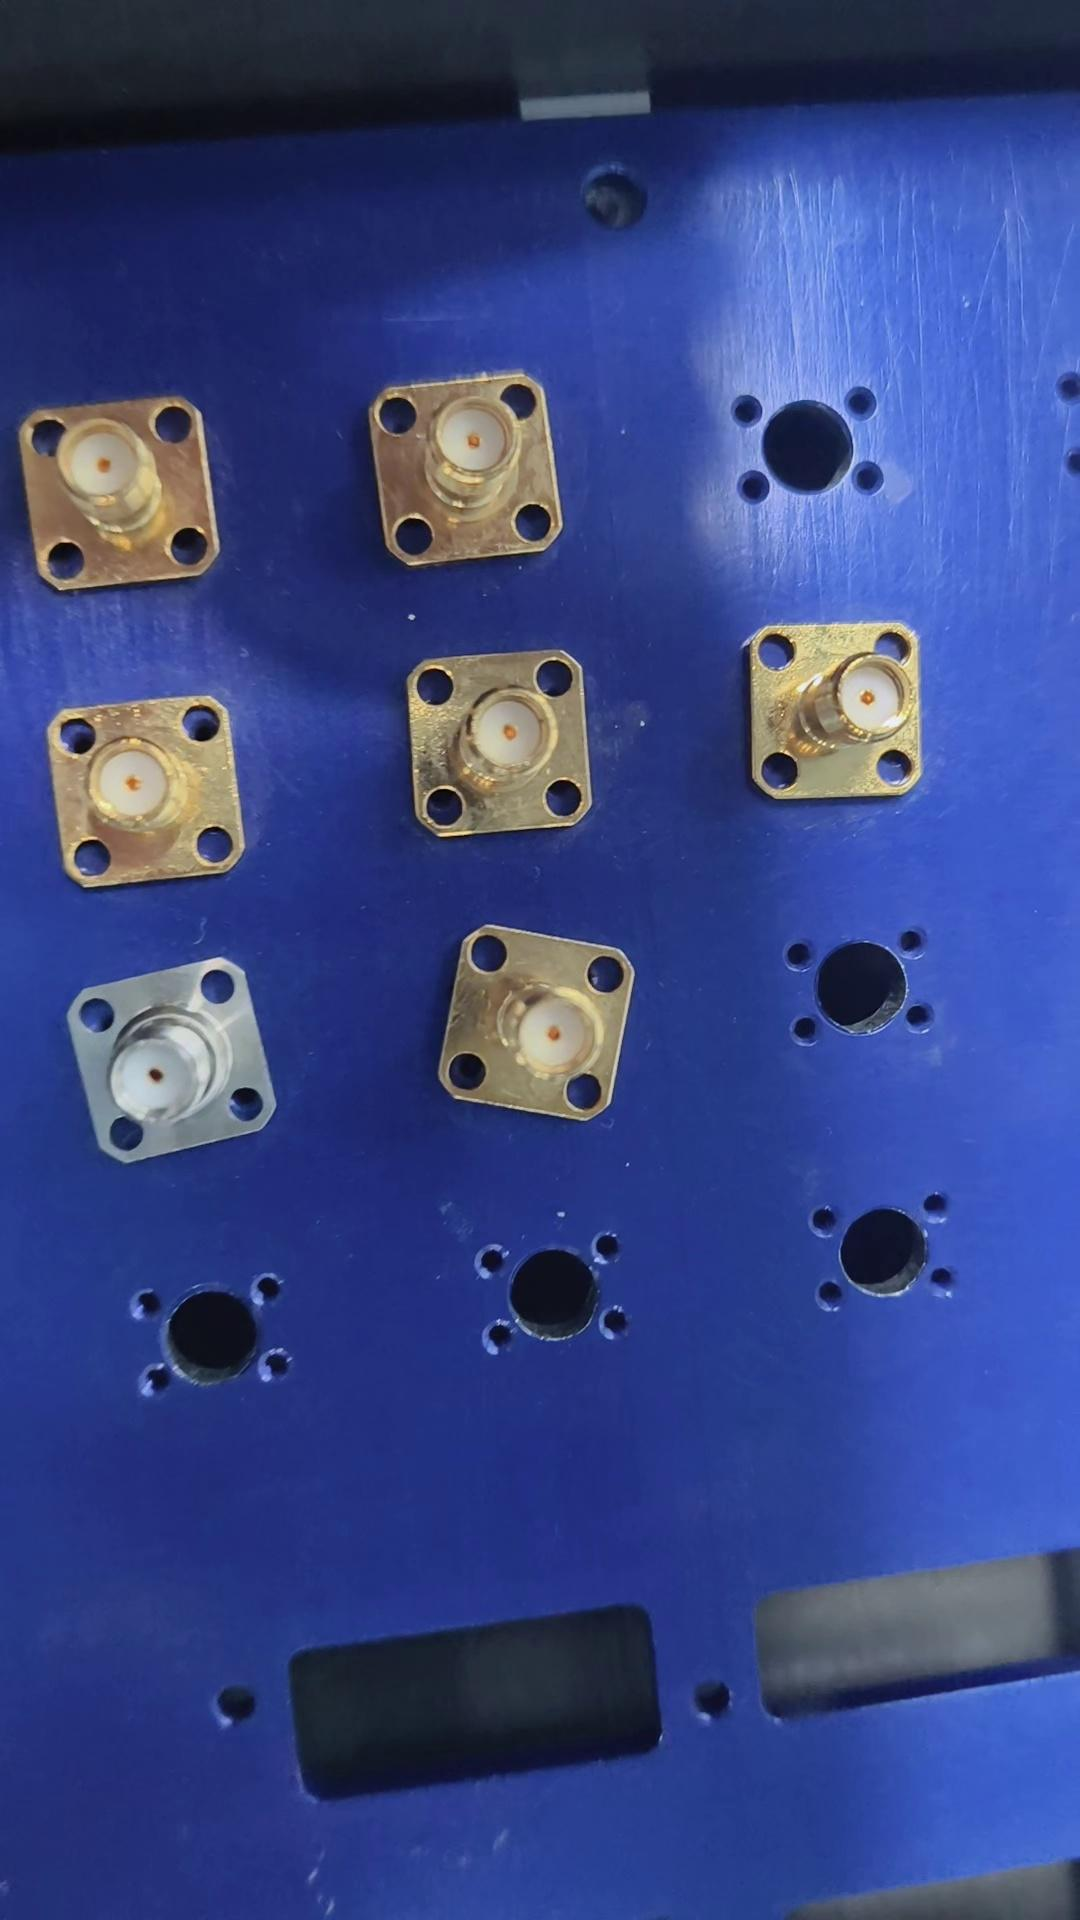SMA: (71, 949, 297, 1172), (55, 690, 257, 902), (401, 647, 611, 851), (439, 920, 647, 1124), (18, 407, 235, 600), (365, 371, 579, 564), (745, 616, 938, 806)
